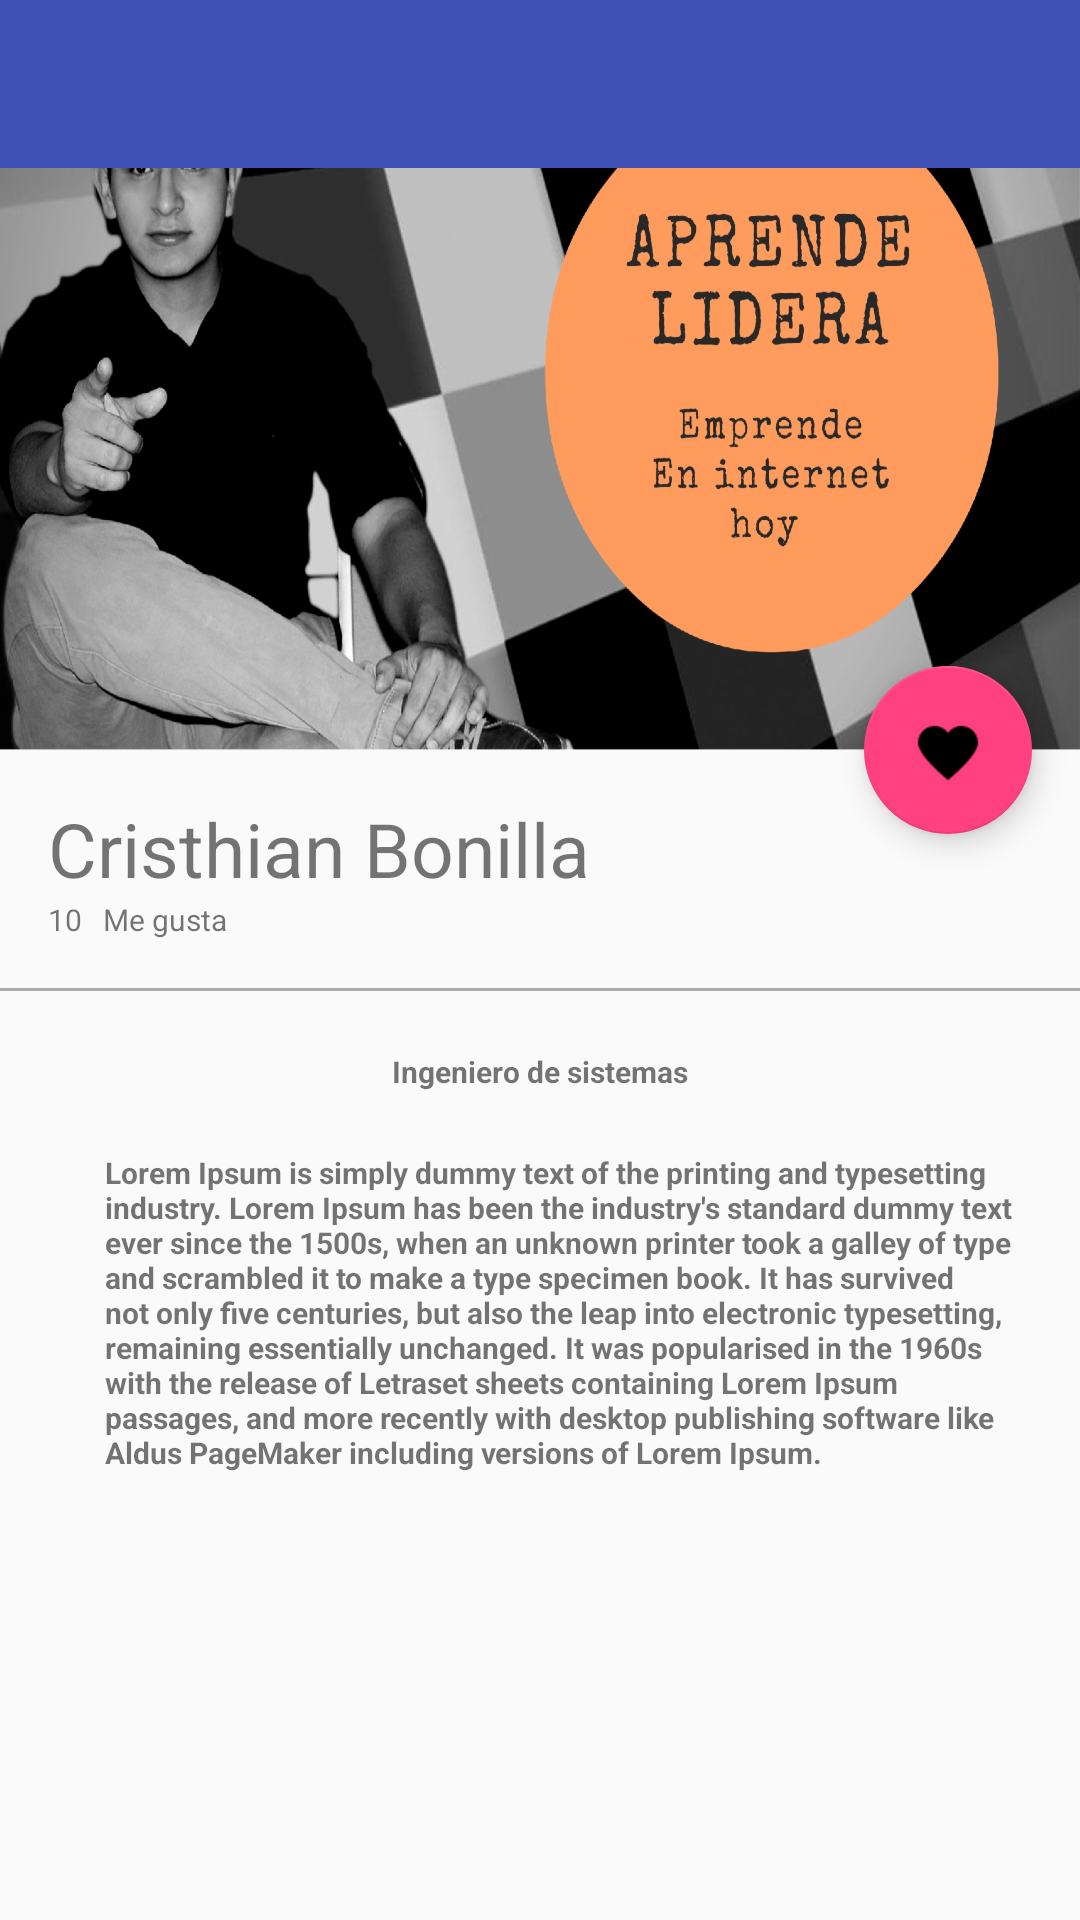

Point at icon controls on the screen. Image size 1080x1920, points as (x=x, y=y).
like: (x=948, y=750)
